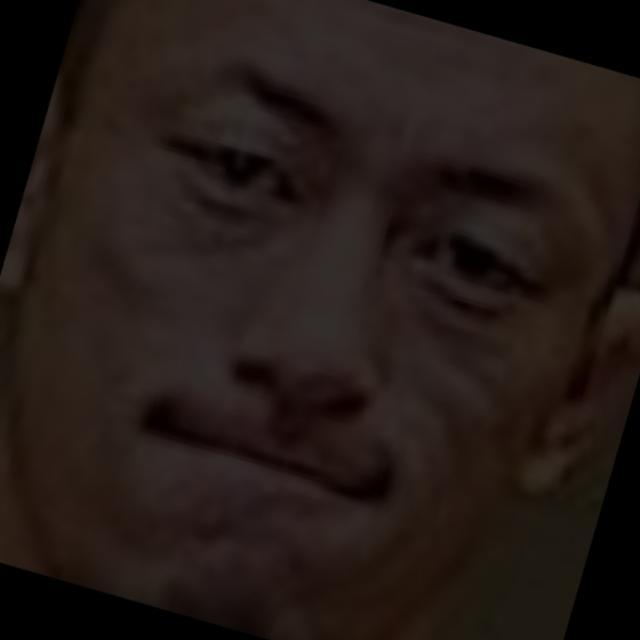Angry: (83, 32, 619, 634)
